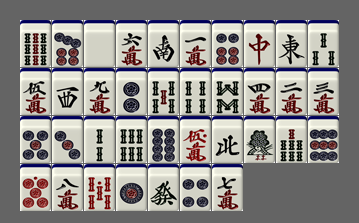0m: (180, 116, 211, 163)
0p: (20, 164, 51, 211)
0s: (84, 164, 115, 211)
1m: (180, 20, 211, 67)
1p: (116, 164, 147, 211)
1s: (244, 116, 275, 163)
1z: (276, 20, 307, 67)
2m: (276, 68, 307, 115)
2p: (116, 68, 147, 115)
2s: (84, 116, 115, 163)
2z: (148, 20, 179, 67)
3m: (308, 68, 339, 115)
3p: (52, 116, 83, 163)
3s: (308, 20, 339, 67)
3z: (52, 68, 83, 115)
4m: (244, 68, 275, 115)
4p: (180, 164, 211, 211)
4s: (180, 68, 211, 115)
4z: (212, 116, 243, 163)
5m: (20, 68, 51, 115)
5p: (20, 116, 51, 163)
5s: (148, 68, 179, 115)
5z: (84, 20, 115, 67)
6m: (116, 20, 147, 67)
6p: (212, 20, 243, 67)
6s: (116, 116, 147, 163)
6z: (148, 164, 179, 211)
7m: (212, 164, 243, 211)
7p: (52, 20, 83, 67)
7s: (276, 116, 307, 163)
7z: (244, 20, 275, 67)
8m: (52, 164, 83, 211)
8p: (148, 116, 179, 163)
8s: (212, 68, 243, 115)
9m: (84, 68, 115, 115)
9p: (308, 116, 339, 163)
9s: (20, 20, 51, 67)
